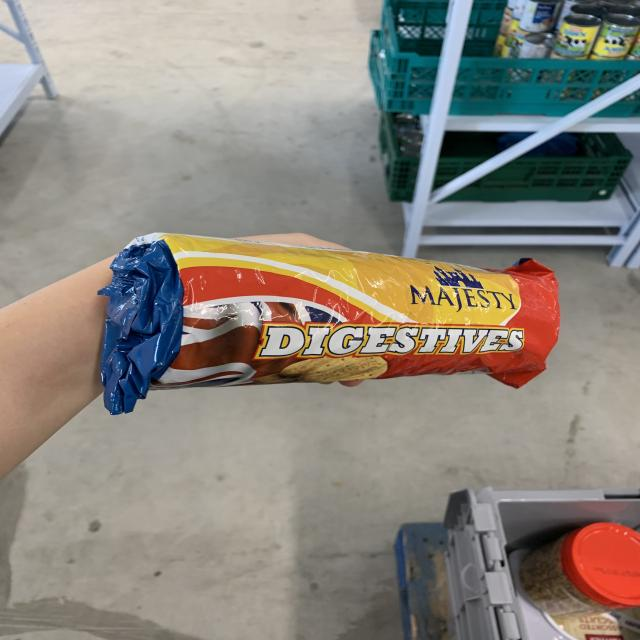object_name: (121, 236, 551, 378)
